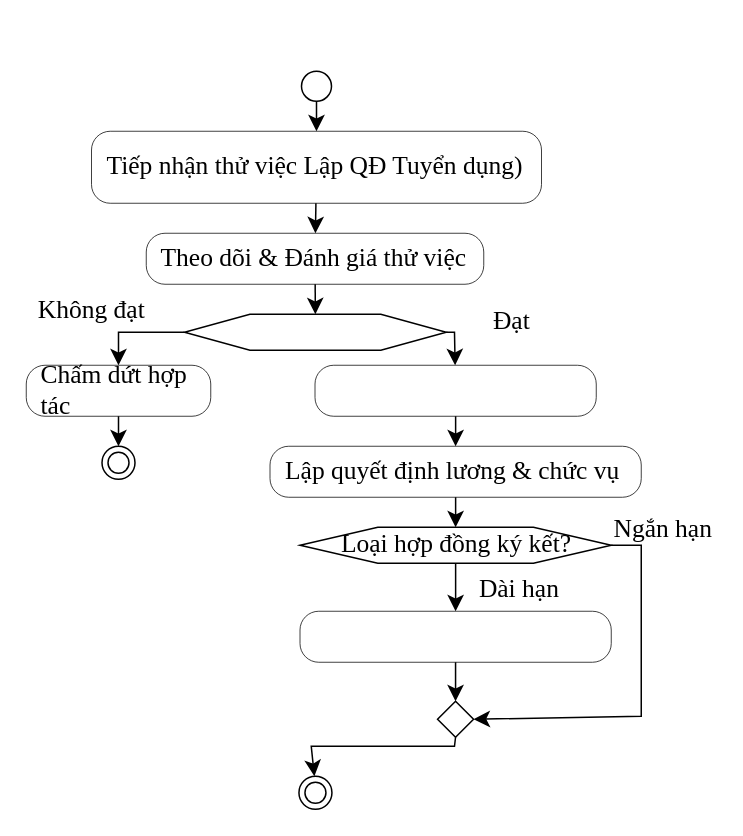
The diagram is 743 pixels wide and 836 high, and some of its shapes have lost their labels. The centre of each missing label's shape, as x and y in pixels:
Ký hợp đồng chính thức: (455,390)
Trích hồ sơ BHXH, BHYT: (455,636)
Đạt yêu cầu thử việc?: (314,331)
